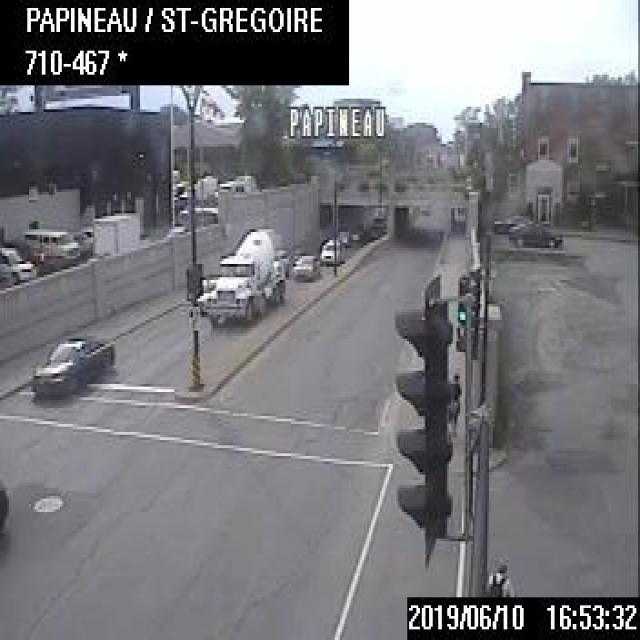pedestrian: (446, 371, 462, 433), (485, 552, 507, 595)
vehicle: (203, 221, 284, 320), (27, 336, 115, 397), (92, 211, 142, 248), (26, 227, 78, 260), (509, 216, 560, 248), (0, 246, 36, 281), (289, 252, 319, 280), (196, 273, 217, 312), (320, 236, 344, 265), (491, 212, 519, 232), (0, 482, 7, 528), (335, 228, 349, 243)
